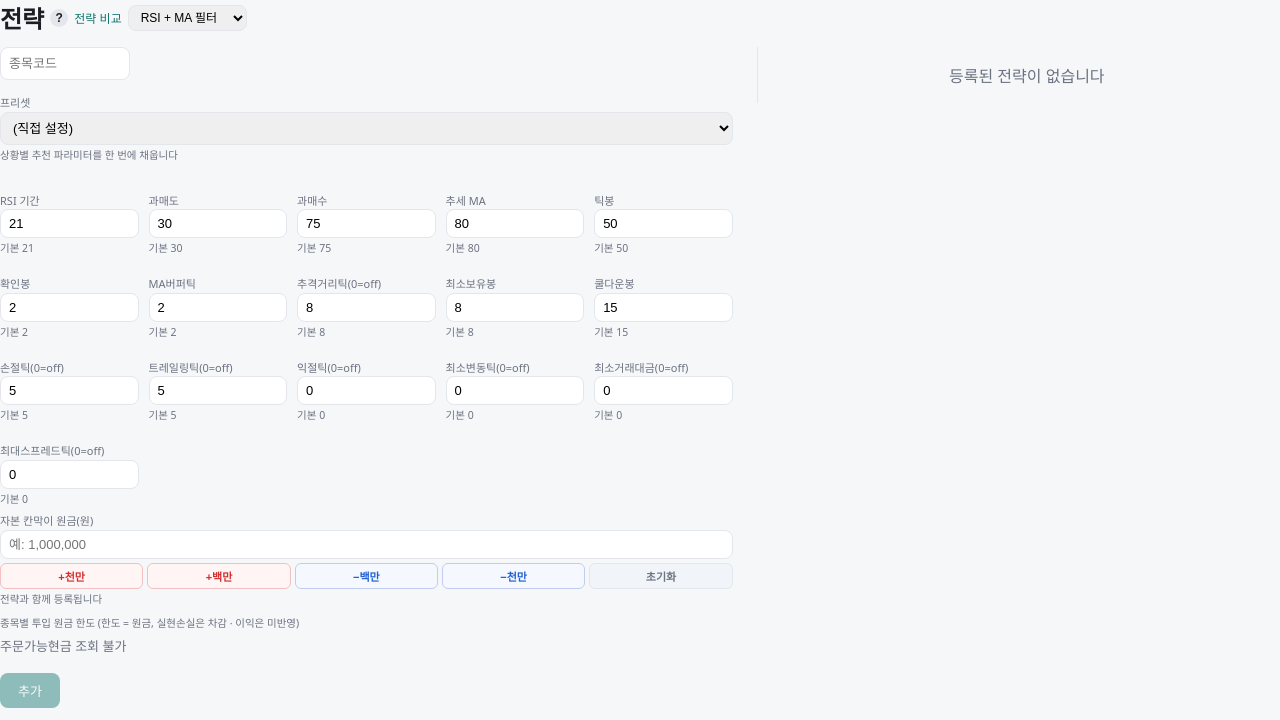
Test: StrategyPanel › 배경 클릭으로 도움말 모달이 닫힌다
Click the button named "RSI + MA 필터 도움말". click: [59, 18]
box: 50,8 -> 68,26
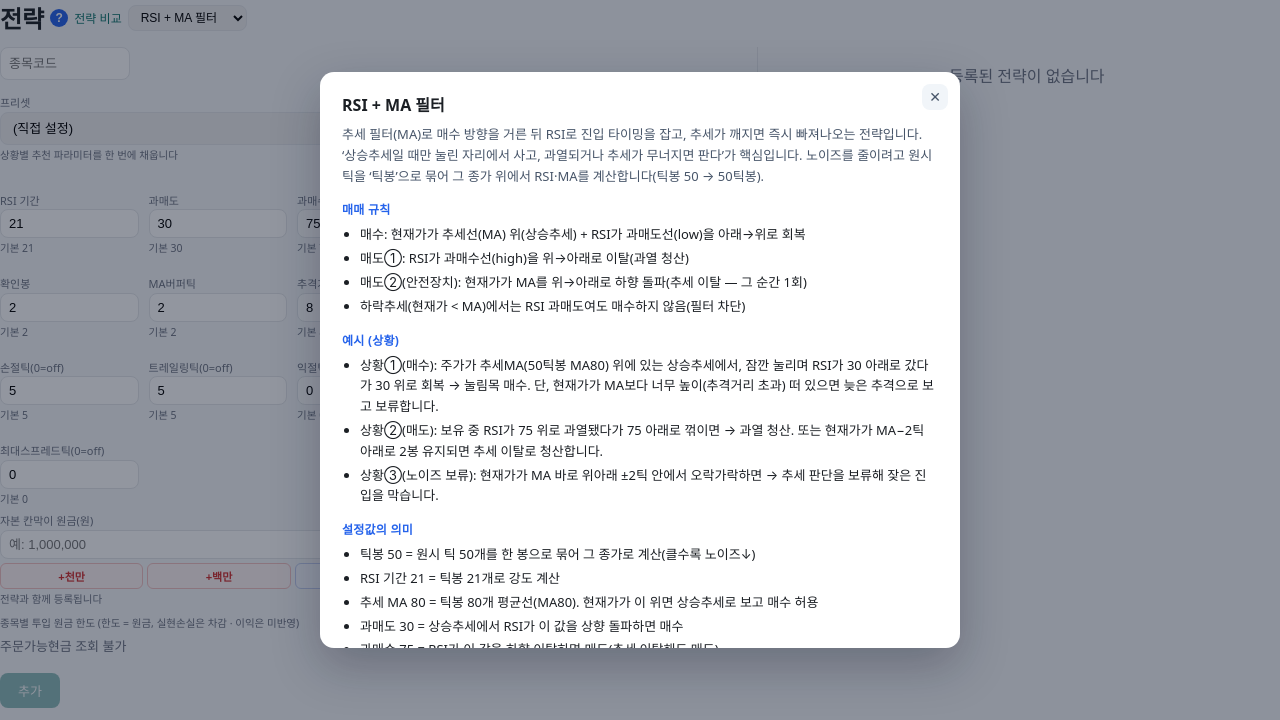
Expected: the dialog is shown, 320,72 -> 960,648
Click the button named "닫기". click: [935, 97]
box: 922,84 -> 948,110
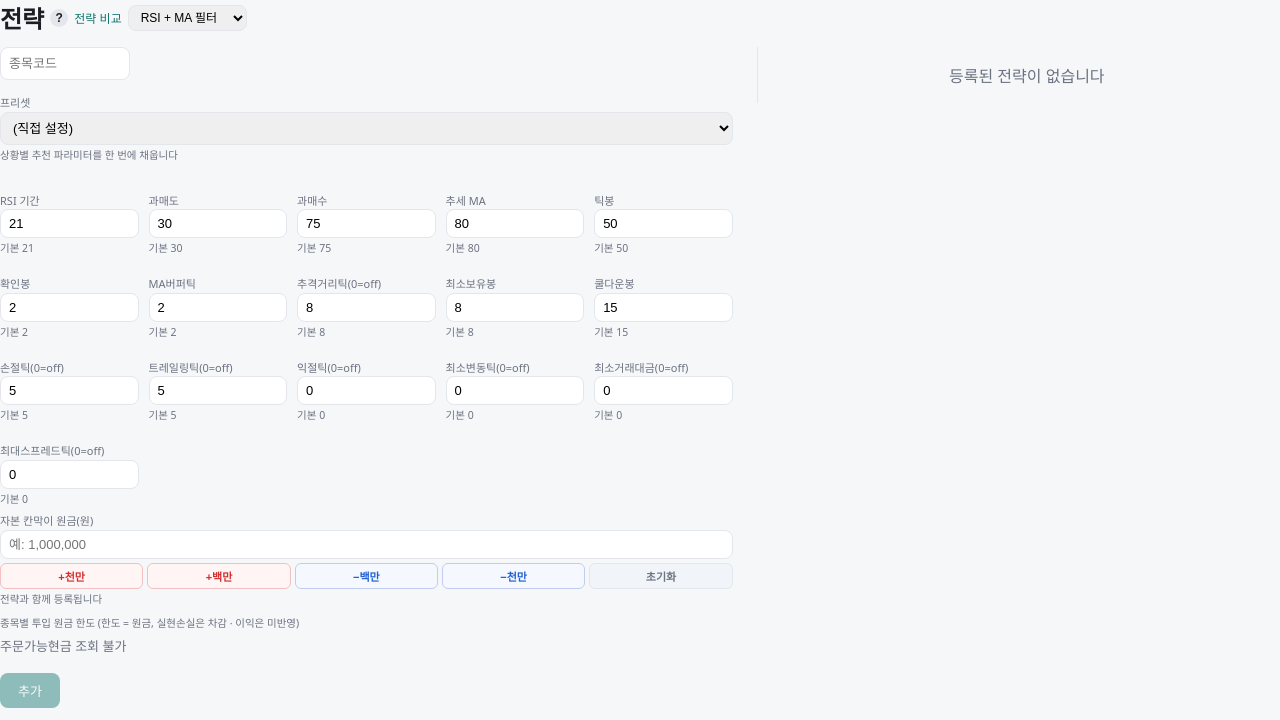
Expected: the dialog is gone
